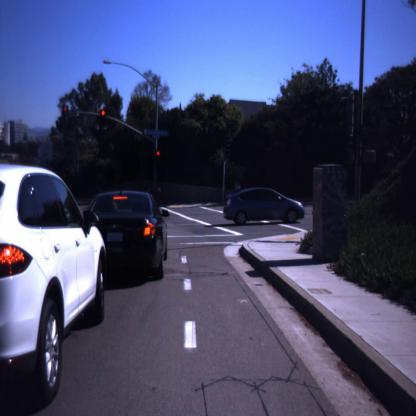trafficlight: (97, 105, 107, 135), (60, 102, 70, 128), (152, 149, 162, 172)
